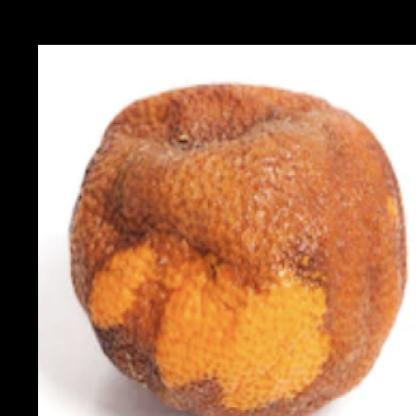rotten: (73, 84, 405, 416)
